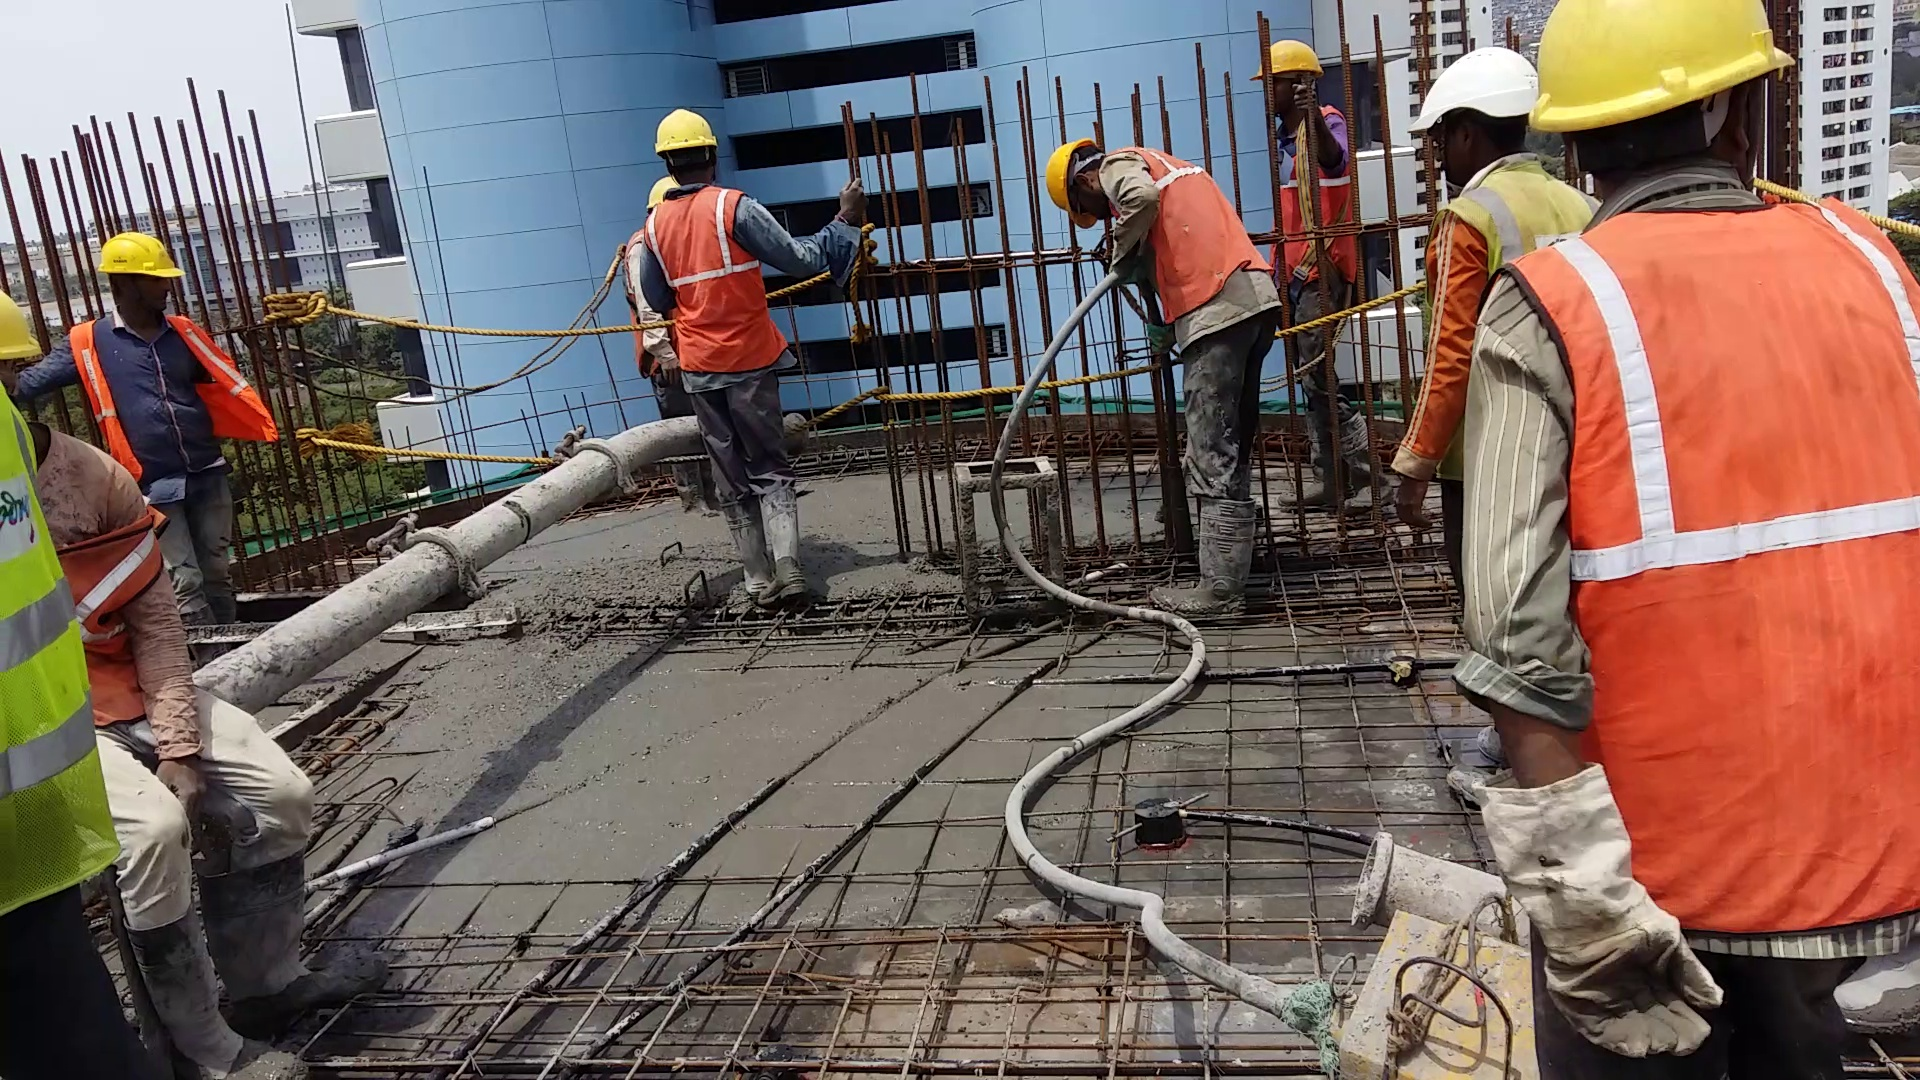SAFE: (1532, 3, 1920, 934), (1046, 131, 1279, 338), (67, 229, 225, 491), (649, 107, 789, 386)
